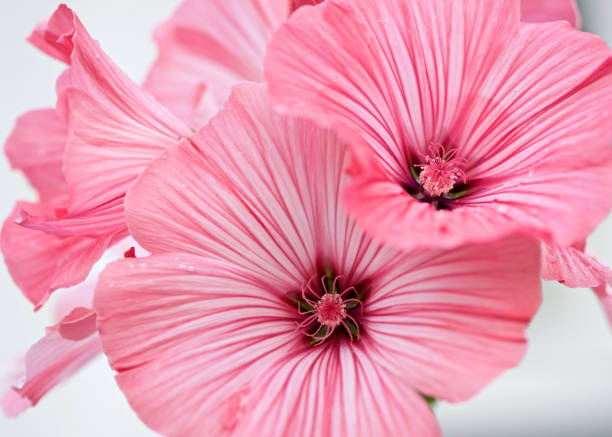Hibiscus: (1, 1, 611, 435)
